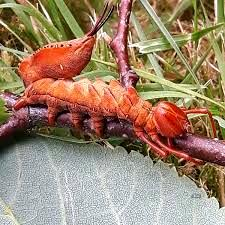Lobster Moth: (12, 22, 209, 155)
